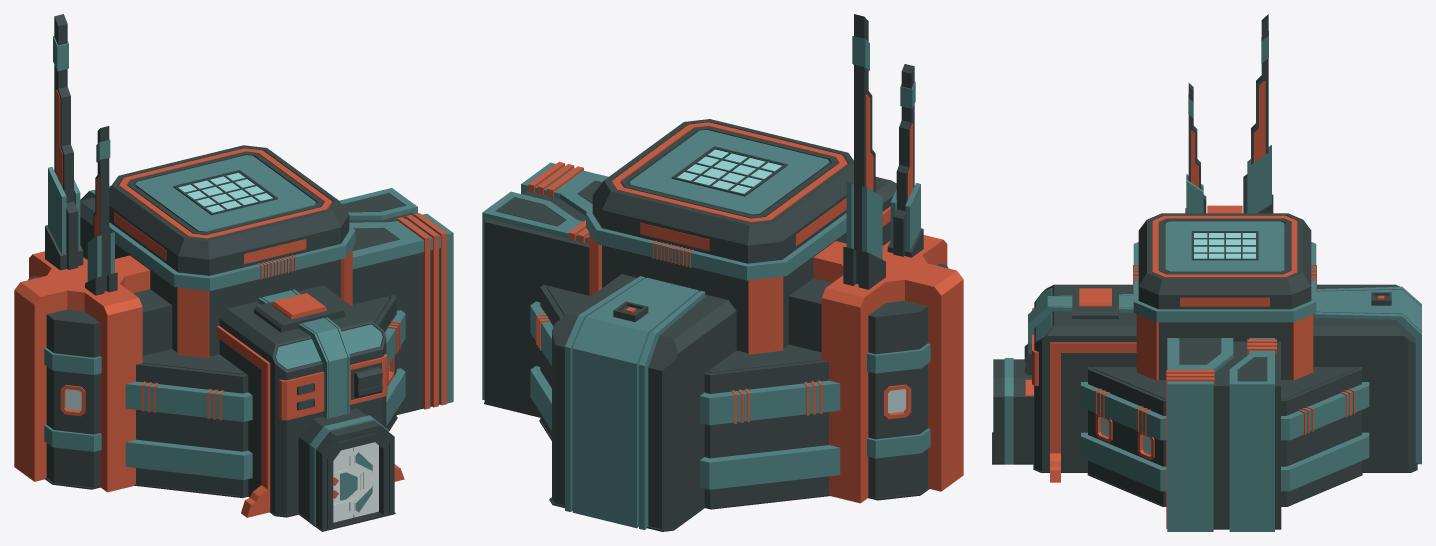
Rendered from TP_Sci-fi01.fbx.
3 renders of one model, left to right at view 1: azimuth 30°, elevation 25°; view 2: azimuth 150°, elevation 25°; view 3: azimuth 270°, elevation 25°, orthographic. The views are drawn at different scales.
Visible parts, largest first — view 1: TP_Sci_fi01; view 2: TP_Sci_fi01; view 3: TP_Sci_fi01.
Boxes of the visible parts, <box> form: TP_Sci_fi01: <box>14,14,453,531</box>; TP_Sci_fi01: <box>482,14,963,531</box>; TP_Sci_fi01: <box>992,14,1421,531</box>.
Bounding box in the file's own units: 678 × 698 × 730.
1 material, 1 textured.
